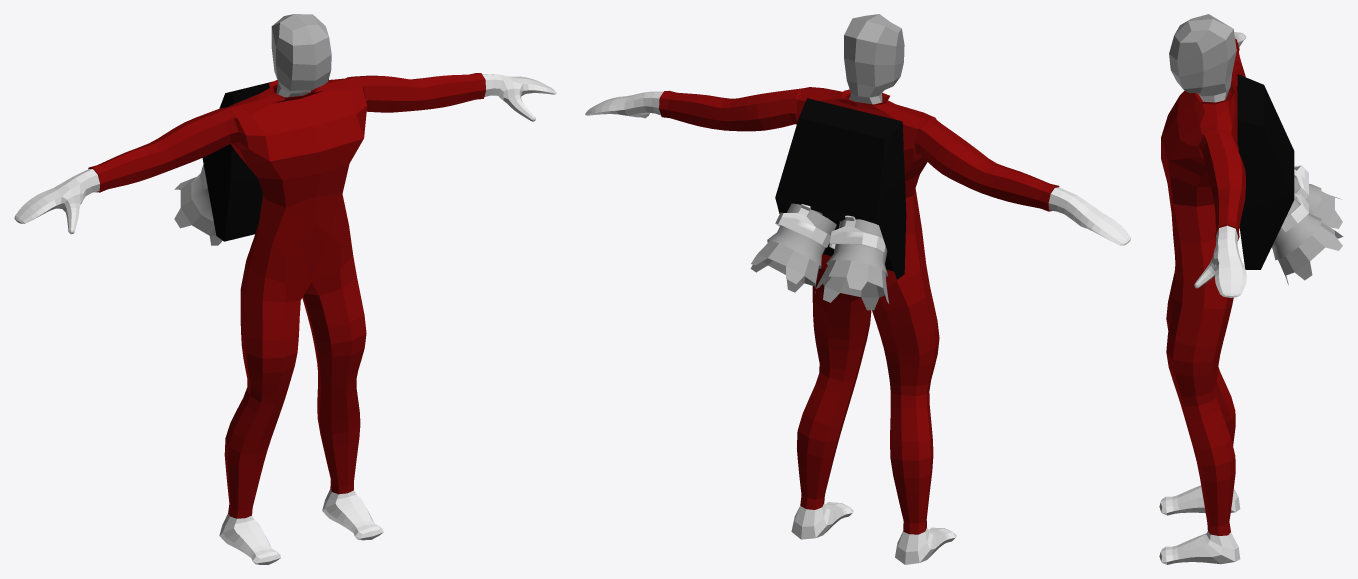
File: human.fbx
The picture shows the model from 3 angles, left to right: view 1: azimuth 30°, elevation 25°; view 2: azimuth 150°, elevation 25°; view 3: azimuth 270°, elevation 25°; orthographic projection.
Visible parts, largest first — view 1: polySurface75; view 2: polySurface75; view 3: polySurface75.
Boxes of the visible parts, x1,y1,x2,y2 form: polySurface75: [14, 14, 556, 564]; polySurface75: [585, 14, 1130, 564]; polySurface75: [1159, 14, 1343, 564].
Bounding box in the file's own units: 146 × 135 × 43.61.
